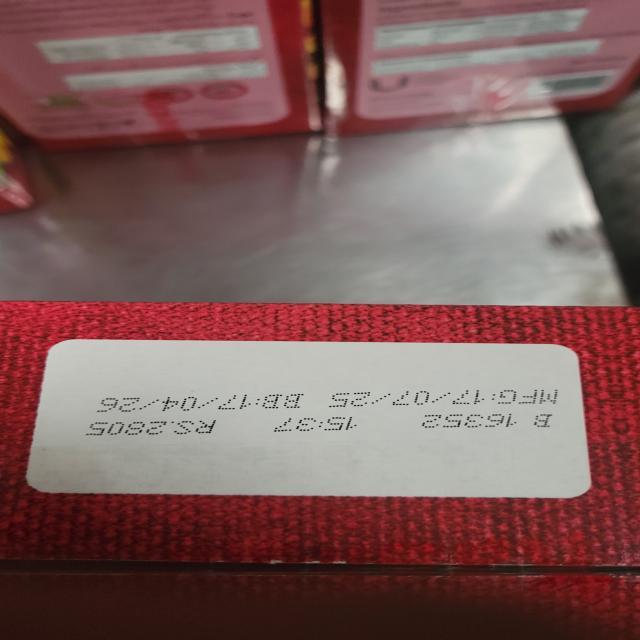BB: (99, 394, 304, 412)
Batch: (417, 413, 550, 429)
MFG: (326, 388, 566, 408)
RS: (86, 420, 217, 436)
TimeStamp: (272, 417, 360, 432)
